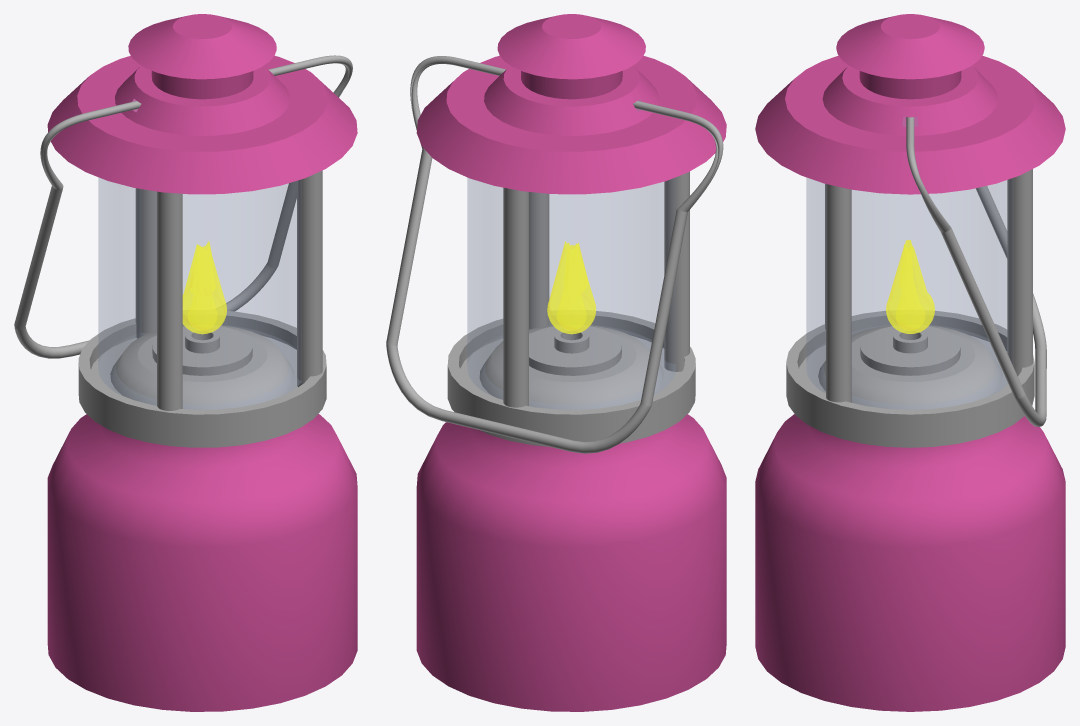
The model's file is lampiao.glb.
3 renders of one model, left to right at view 1: azimuth 30°, elevation 25°; view 2: azimuth 150°, elevation 25°; view 3: azimuth 270°, elevation 25°, orthographic.
Parts seen in each view (by area): view 1: objeto; view 2: objeto; view 3: objeto.
Part boxes in pixels (<box>): objeto: <box>14,14,357,711</box>; objeto: <box>386,14,726,711</box>; objeto: <box>755,14,1065,711</box>.
Size of the model in its own units: 4.49 by 8.59 by 3.9.
